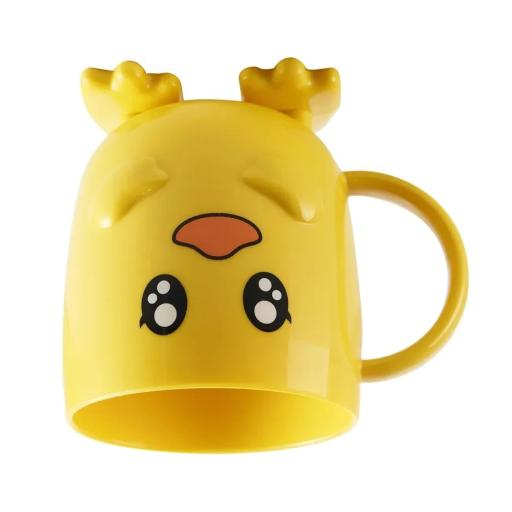cup: (63, 59, 467, 453)
